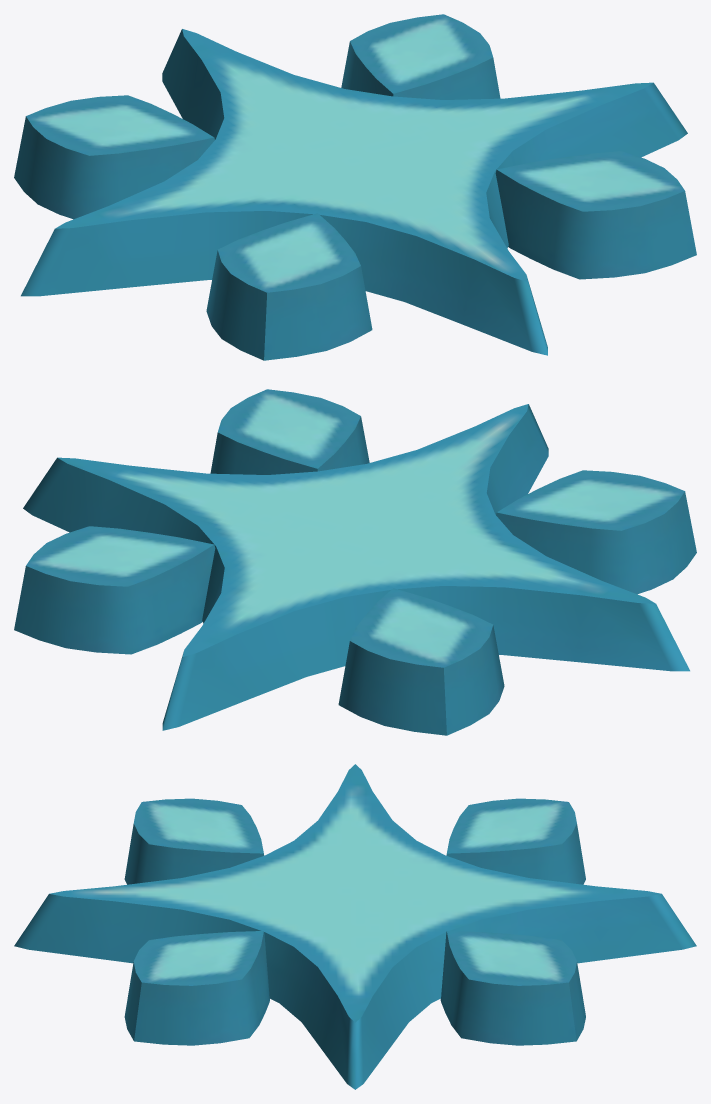
File: Homeworld_Ani_Interior_Common_Walldecoration_Prop_MechanicalDrawing_01_11_Vo.fbx
The picture shows the model from 3 angles, top to bottom: view 1: azimuth 30°, elevation 25°; view 2: azimuth 150°, elevation 25°; view 3: azimuth 270°, elevation 25°; orthographic projection. The views are drawn at different scales.
Visible parts, largest first — view 1: Homeworld_Ani_Interior_Common_Walldecoration_Prop_Mechanical; view 2: Homeworld_Ani_Interior_Common_Walldecoration_Prop_Mechanical; view 3: Homeworld_Ani_Interior_Common_Walldecoration_Prop_Mechanical.
Part boxes in pixels (bbox=[...]): Homeworld_Ani_Interior_Common_Walldecoration_Prop_Mechanical: bbox=[14, 14, 696, 360]; Homeworld_Ani_Interior_Common_Walldecoration_Prop_Mechanical: bbox=[14, 389, 696, 735]; Homeworld_Ani_Interior_Common_Walldecoration_Prop_Mechanical: bbox=[14, 764, 696, 1089].
Bounding box in the file's own units: 0.0759 × 0.00687 × 0.076.
